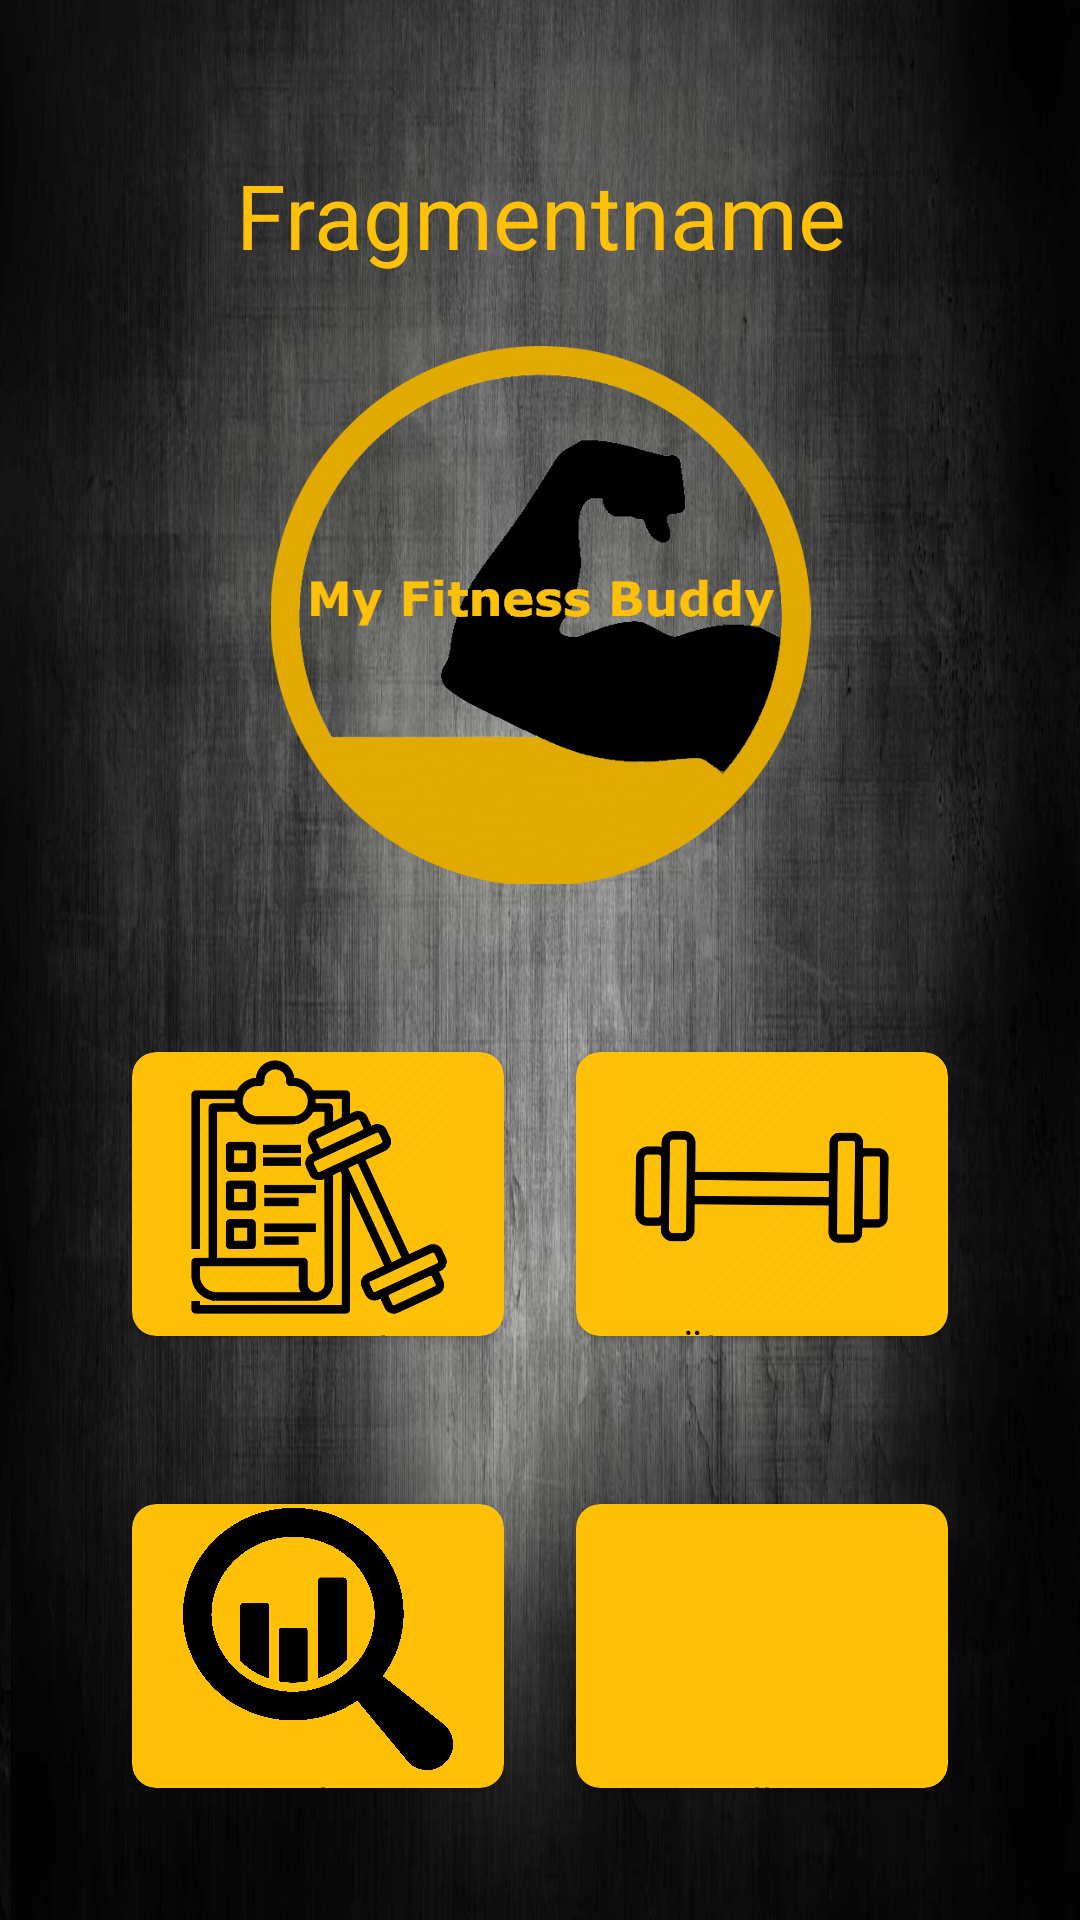

Locate icon controls on the screen. Image size 1080*1920, boxes as {"left": x1, "top": y1, "right": x2, "bottom": y2}.
exercises: {"left": 635, "top": 1131, "right": 889, "bottom": 1243}
trainingsplan: {"left": 191, "top": 1060, "right": 447, "bottom": 1314}
